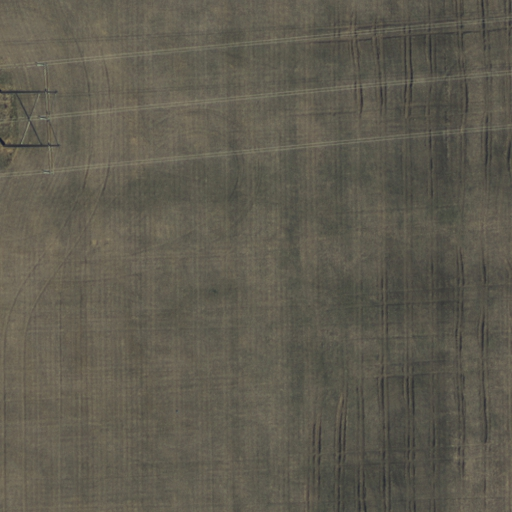TT: (9, 56, 66, 181)
